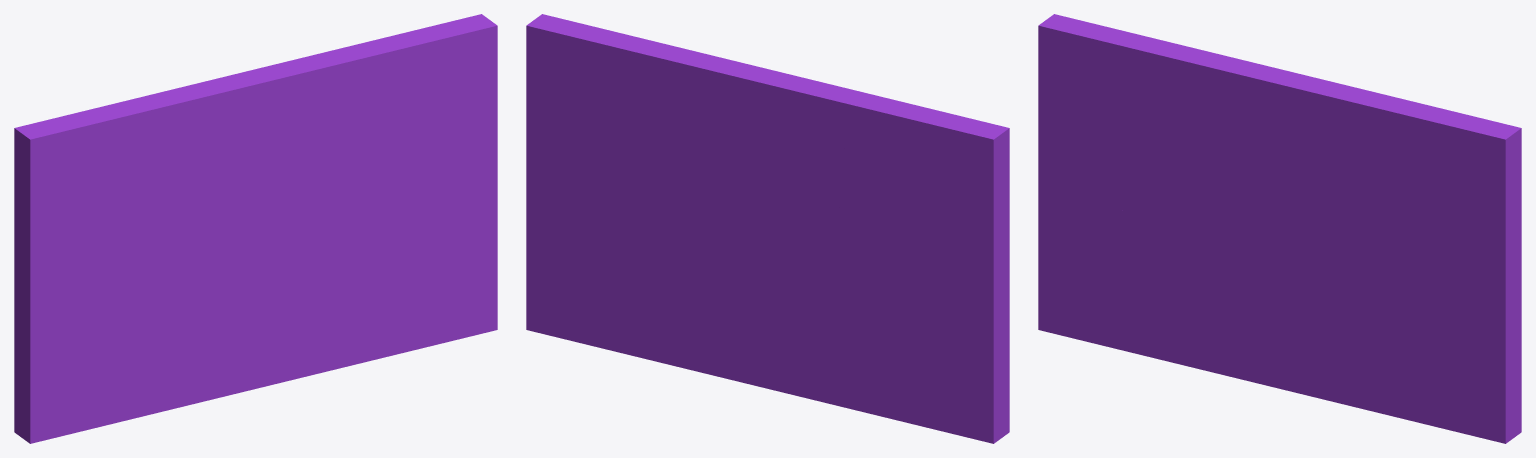
The model's file is Barrier_90_chunks.fbx.
The picture shows the model from 3 angles, left to right: view 1: azimuth 30°, elevation 25°; view 2: azimuth 150°, elevation 25°; view 3: azimuth 330°, elevation 25°; orthographic projection.
Parts seen in each view (by area): view 1: Barrier_90_1, Barrier_90_0, Barrier_90_5, Barrier_90_4, Barrier_90_6, Barrier_90_2, Barrier_90_3; view 2: Barrier_90_1, Barrier_90_0, Barrier_90_2, Barrier_90_4, Barrier_90_3, Barrier_90_6, Barrier_90_5; view 3: Barrier_90_1, Barrier_90_0, Barrier_90_5, Barrier_90_4, Barrier_90_6, Barrier_90_2.
Boxes of the visible parts, x1,y1,x2,y2 form: Barrier_90_1: [266, 14, 497, 366]; Barrier_90_0: [14, 67, 327, 305]; Barrier_90_5: [22, 310, 260, 443]; Barrier_90_4: [187, 243, 347, 387]; Barrier_90_6: [14, 259, 205, 387]; Barrier_90_2: [161, 49, 337, 92]; Barrier_90_3: [14, 354, 28, 437]; Barrier_90_1: [526, 14, 751, 364]; Barrier_90_0: [714, 56, 1009, 293]; Barrier_90_2: [670, 55, 847, 246]; Barrier_90_4: [671, 242, 840, 392]; Barrier_90_3: [817, 305, 1007, 443]; Barrier_90_6: [819, 245, 1009, 378]; Barrier_90_5: [783, 357, 1009, 437]; Barrier_90_1: [1274, 93, 1521, 443]; Barrier_90_0: [1038, 14, 1335, 243]; Barrier_90_5: [1038, 272, 1268, 385]; Barrier_90_4: [1195, 230, 1355, 407]; Barrier_90_6: [1038, 192, 1213, 273]; Barrier_90_2: [1202, 50, 1376, 100].
Bounding box in the file's own units: 462 × 288 × 27.2.
